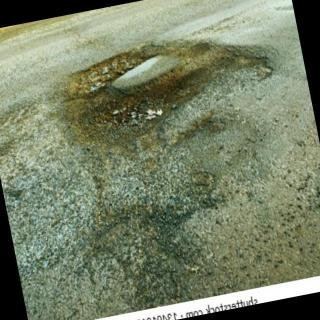pothole: (56, 43, 281, 312)
